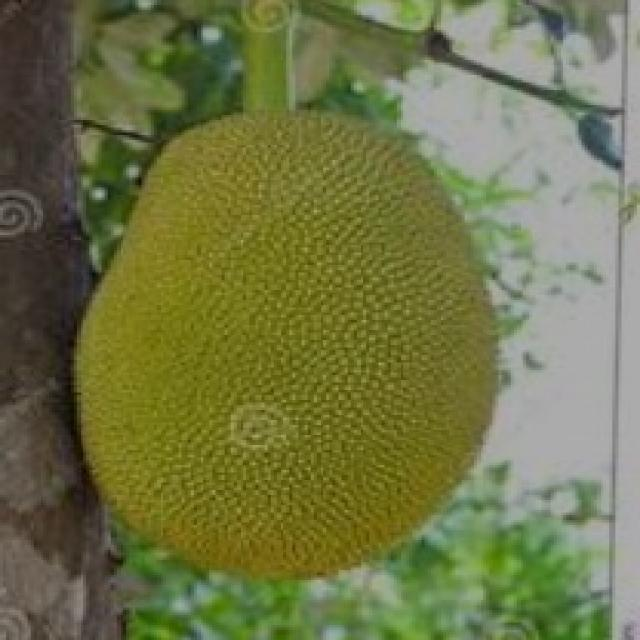Fruit: (234, 175, 538, 620), (99, 83, 523, 375)
